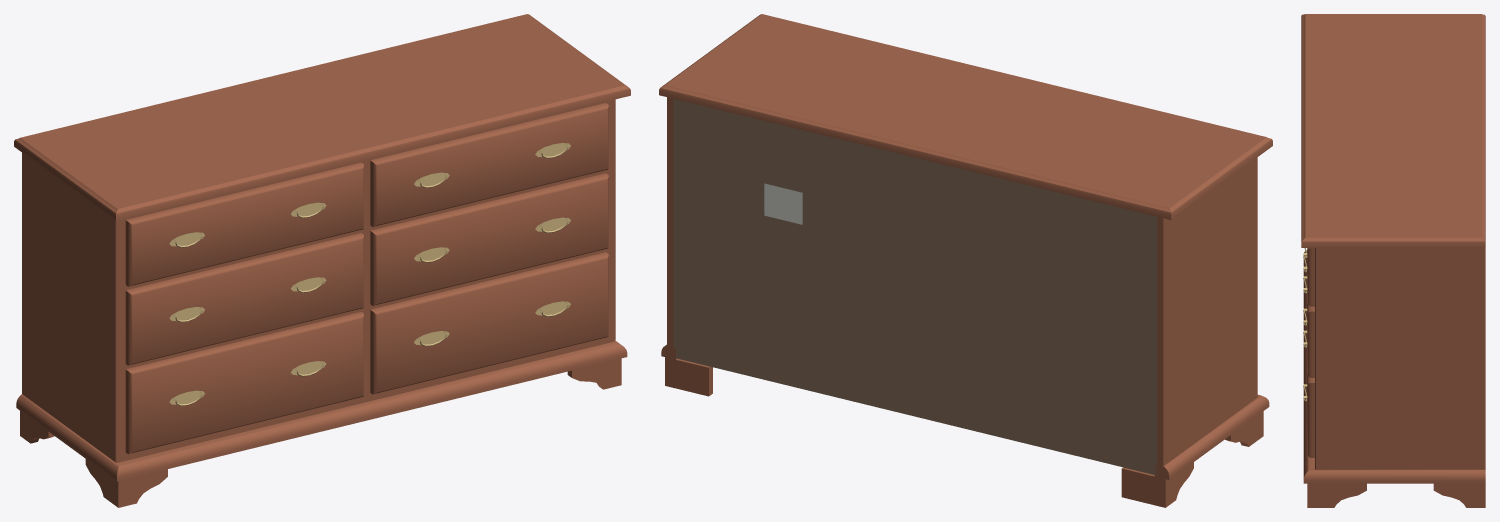
Rendered from Kit_DresserLow.fbx.
The picture shows the model from 3 angles, left to right: view 1: azimuth 30°, elevation 25°; view 2: azimuth 150°, elevation 25°; view 3: azimuth 270°, elevation 25°; orthographic projection. The views are drawn at different scales.
Visible parts, largest first — view 1: Kit_DresserLow_LOD0; view 2: Kit_DresserLow_LOD0; view 3: Kit_DresserLow_LOD0.
Part boxes in pixels (bbox=[...]): Kit_DresserLow_LOD0: bbox=[14, 14, 630, 507]; Kit_DresserLow_LOD0: bbox=[659, 14, 1272, 507]; Kit_DresserLow_LOD0: bbox=[1301, 14, 1485, 507].
Size of what is drawn, in the model's own units: 1.4 by 0.78 by 0.4803.
